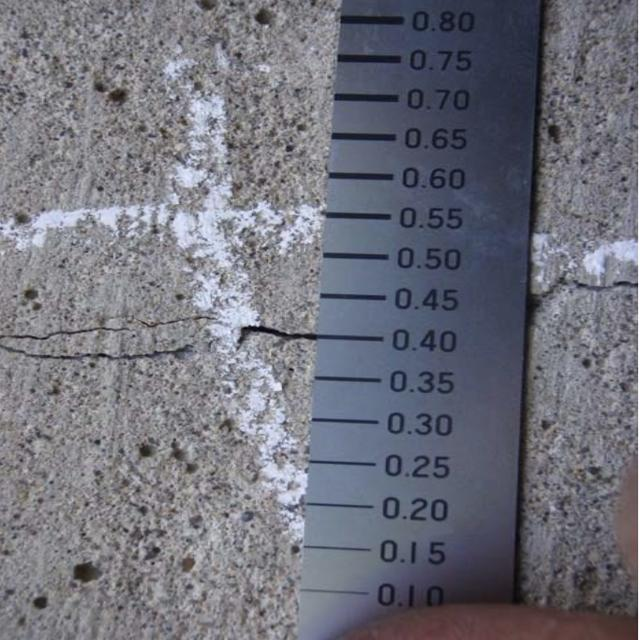crack: (6, 301, 313, 370)
